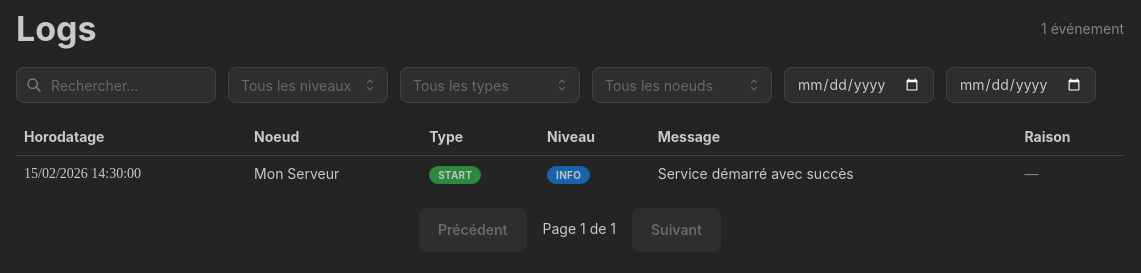
Test: LogsPage › should show "Aucun résultat pour ces filtres" when filters return no results
The width and height of the screenshot is (1141, 273).
Expected: the text "Service démarré avec succès" is shown, [658,165,854,182]
Click the field with placeholder "Tous les niveaux": coordinates (308, 85) [228,67,388,103]
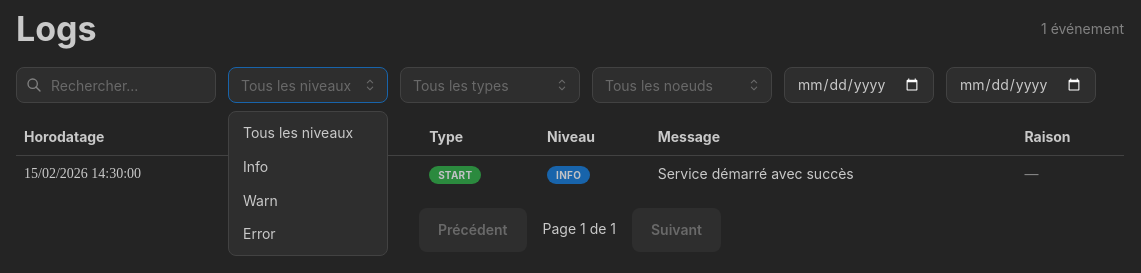
Click the option "Error": coordinates (259, 234) [243,225,276,242]
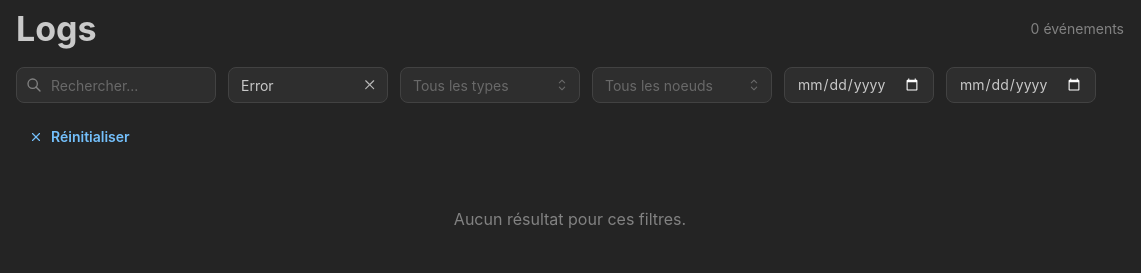
Now the text "Aucun résultat pour ces filtres." is shown, box [454,207,686,232]
